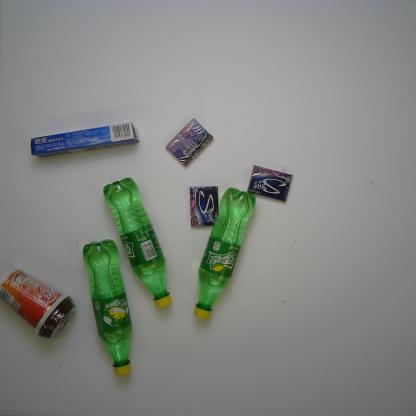Drink: (101, 176, 174, 311), (192, 185, 257, 321), (80, 238, 132, 378)
Gum: (164, 116, 214, 166), (246, 164, 294, 204), (188, 184, 219, 227)
Instant Drink: (0, 267, 78, 342)
Personal Hygiene: (29, 121, 140, 158)
